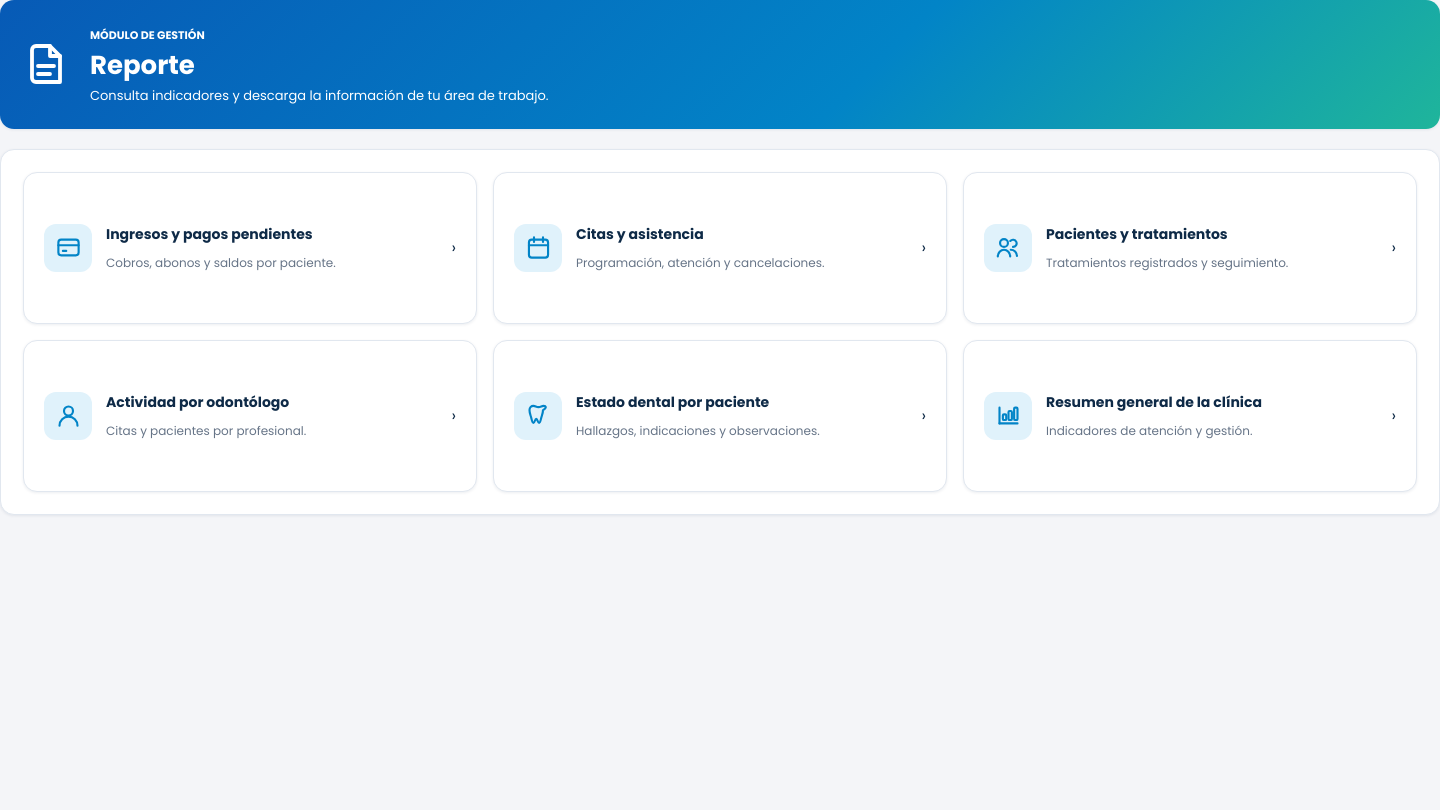
Test case: Pantalla de reportes › no ofrece datos ni exportación a un odontólogo sin vínculo
Click the button "Resumen general".
click(1008, 416)  # box [963,340,1417,492]
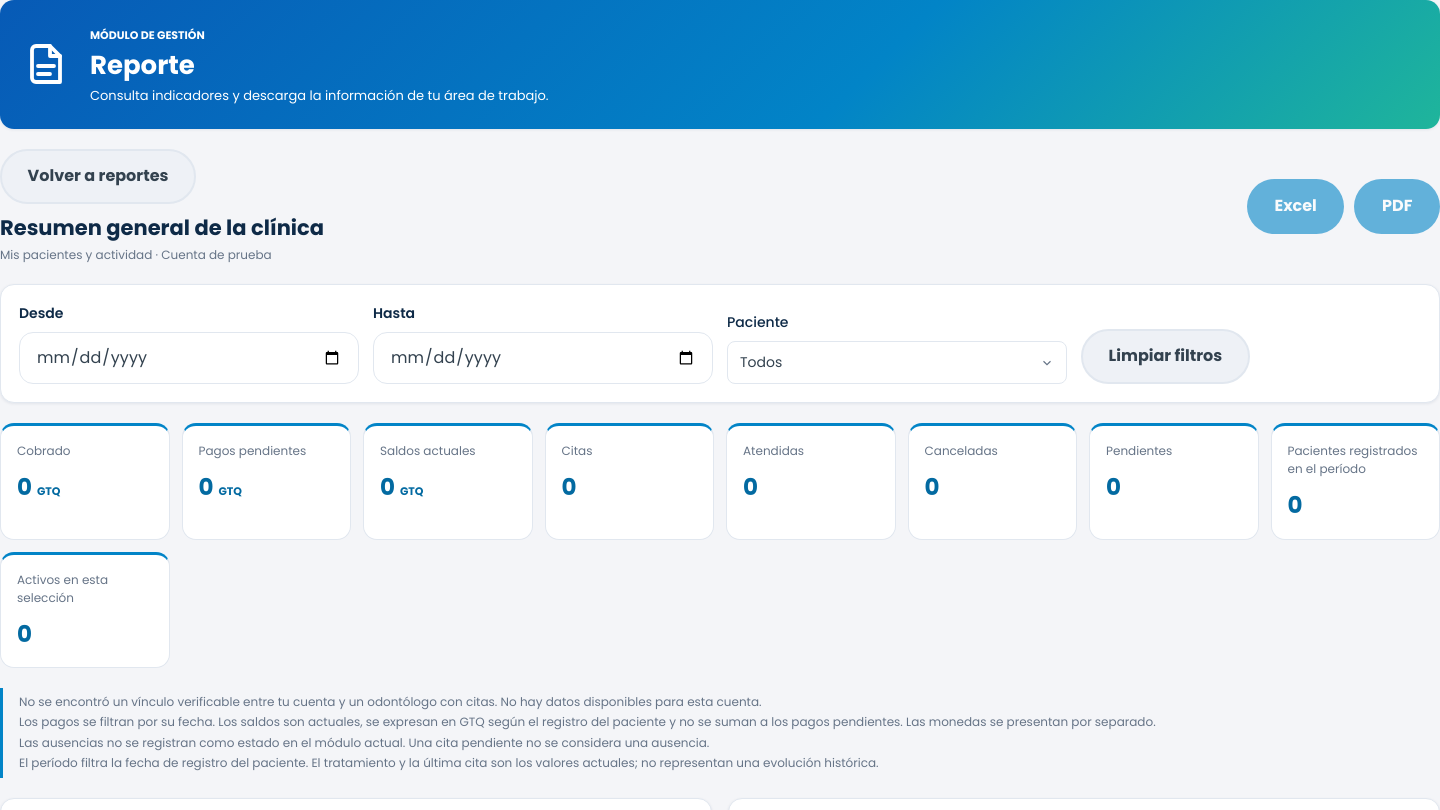
Result: the text "No se encontró un vínculo verificable" is shown at [19,693,762,710]
Result: the button "Excel" is disabled at [1247,179,1344,234]
